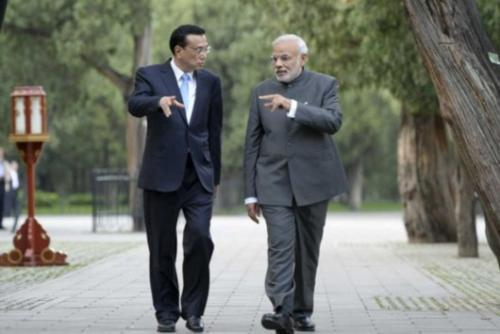up: (110, 25, 233, 328), (238, 33, 345, 333)
